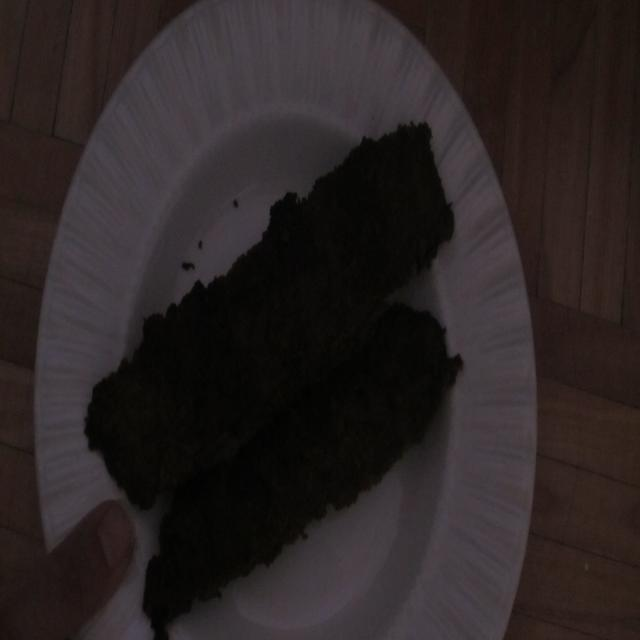cutlet: (76, 108, 486, 566)
